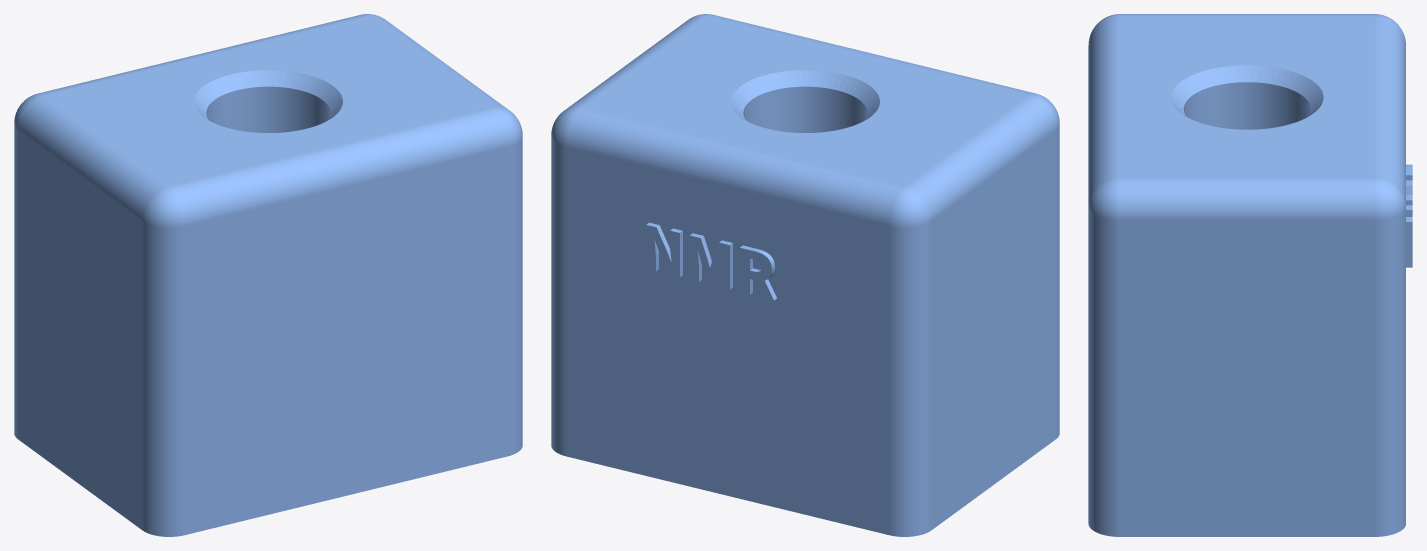
The model's file is NMR.dae.
The picture shows the model from 3 angles, left to right: view 1: azimuth 30°, elevation 25°; view 2: azimuth 150°, elevation 25°; view 3: azimuth 270°, elevation 25°; orthographic projection. The views are drawn at different scales.
Parts seen in each view (by area): view 1: node0; view 2: node0; view 3: node0.
Part boxes in pixels (bbox=[...]): node0: bbox=[14, 14, 522, 536]; node0: bbox=[551, 14, 1059, 536]; node0: bbox=[1088, 14, 1412, 536].
Bounding box in the file's own units: 0.7 × 0.51 × 0.6.
